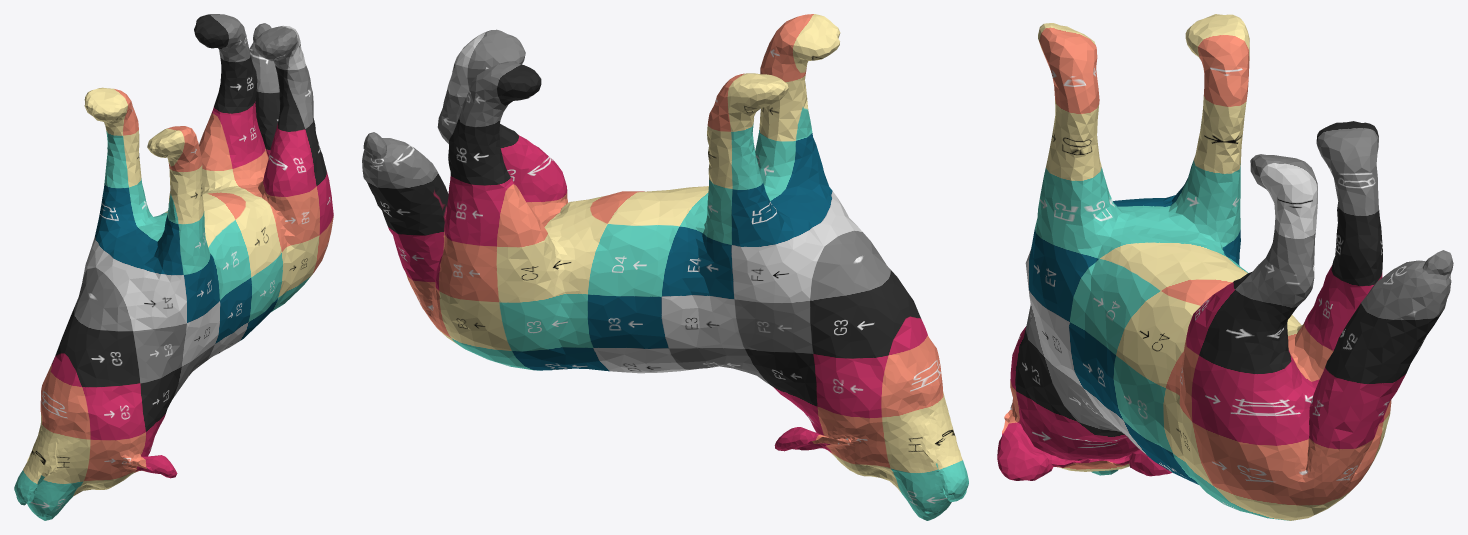
Rendered from wolf_03-wolf_03.obj.
3 views of the same model, side by side, from view 1: azimuth 30°, elevation 25°; view 2: azimuth 150°, elevation 25°; view 3: azimuth 270°, elevation 25° (orthographic). The views are drawn at different scales.
Parts seen in each view (by area): view 1: wolf_03-wolf_03_export; view 2: wolf_03-wolf_03_export; view 3: wolf_03-wolf_03_export.
Part boxes in pixels (x1,y1,x2,y2): wolf_03-wolf_03_export: (14,14,333,520); wolf_03-wolf_03_export: (362,14,968,520); wolf_03-wolf_03_export: (997,14,1453,520).
Size of the model in its own units: 0.7472 by 0.7014 by 0.551.
